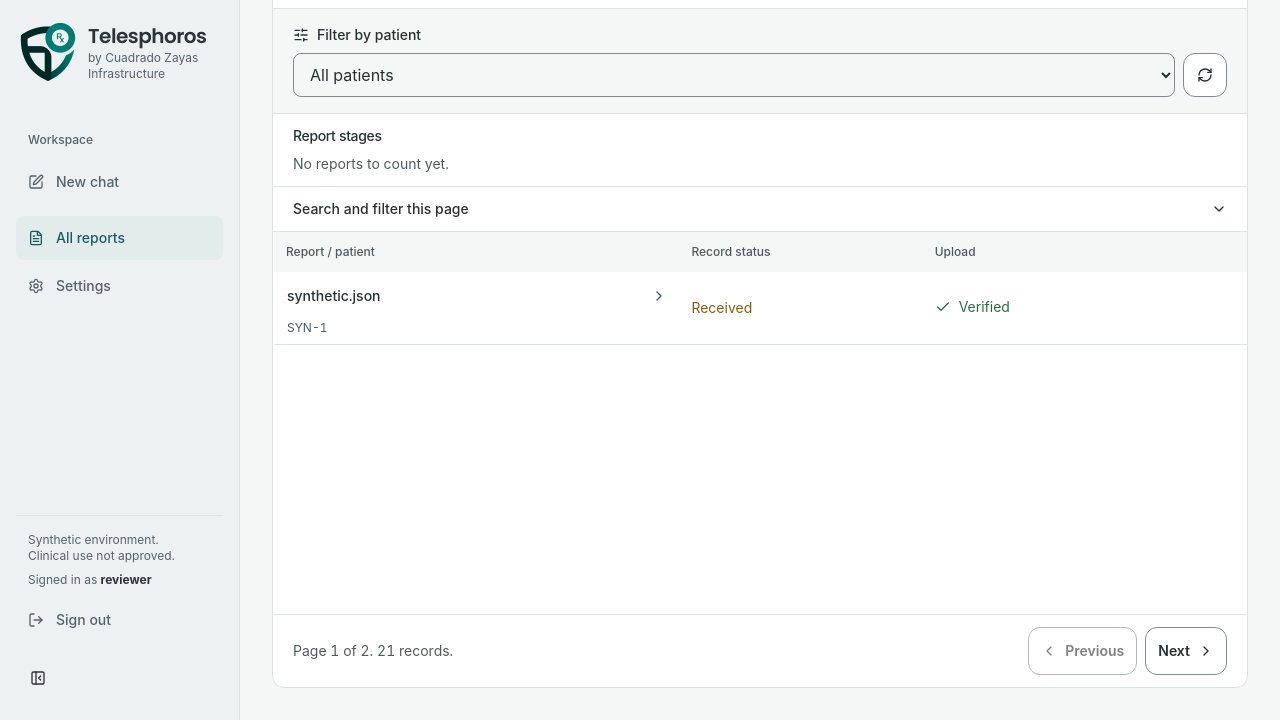
Scenario: reports page with real auth and route guards › keeps page controls mounted and focused through slow reads and refusal without stale rows
(page scrolled)
Expected: the button with aria-label "Open synthetic.json" is shown, x1=287 y1=272 x2=667 y2=320
Click the button with aria-label "Next report page".
click(1186, 651)  # box x1=1145 y1=627 x2=1227 y2=675
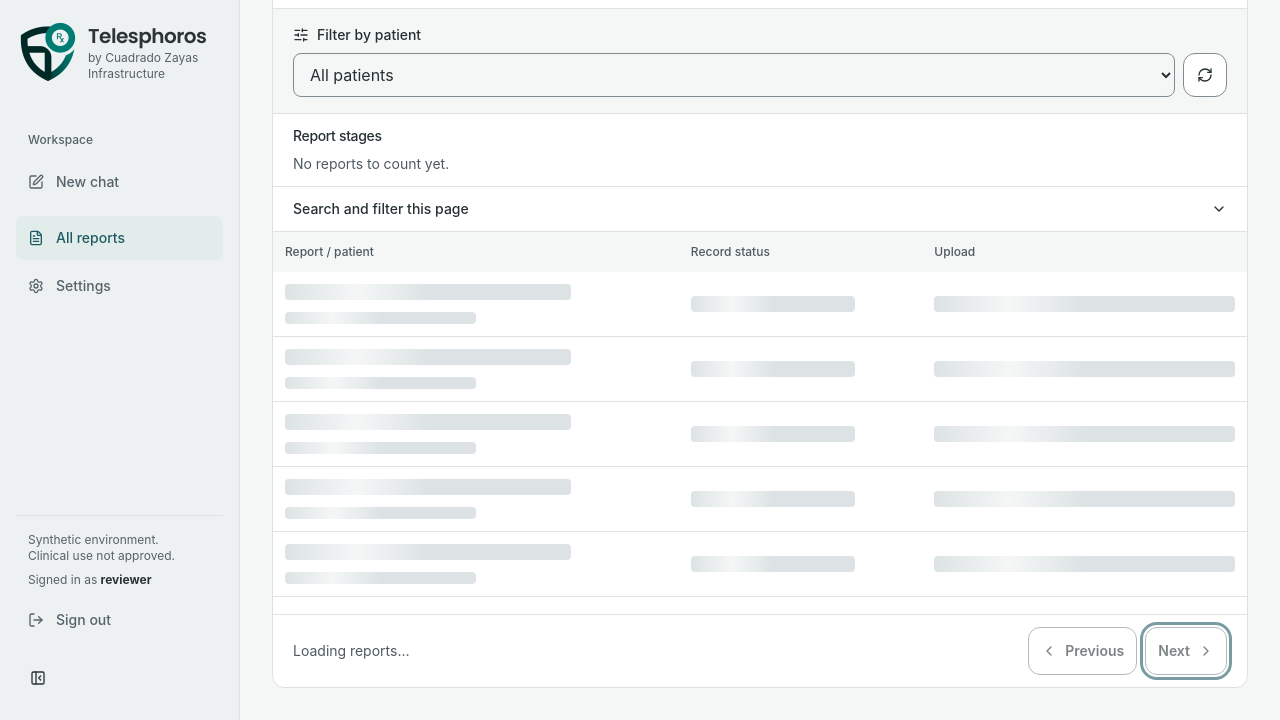
Expected: the button with aria-label "Next report page" is disabled
Expected: the element named "Report records table" has attribute aria-busy="true", x1=273 y1=231 x2=1247 y2=615
Click the button with aria-label "Next report page".
click(1186, 651)  # box x1=1145 y1=627 x2=1227 y2=675
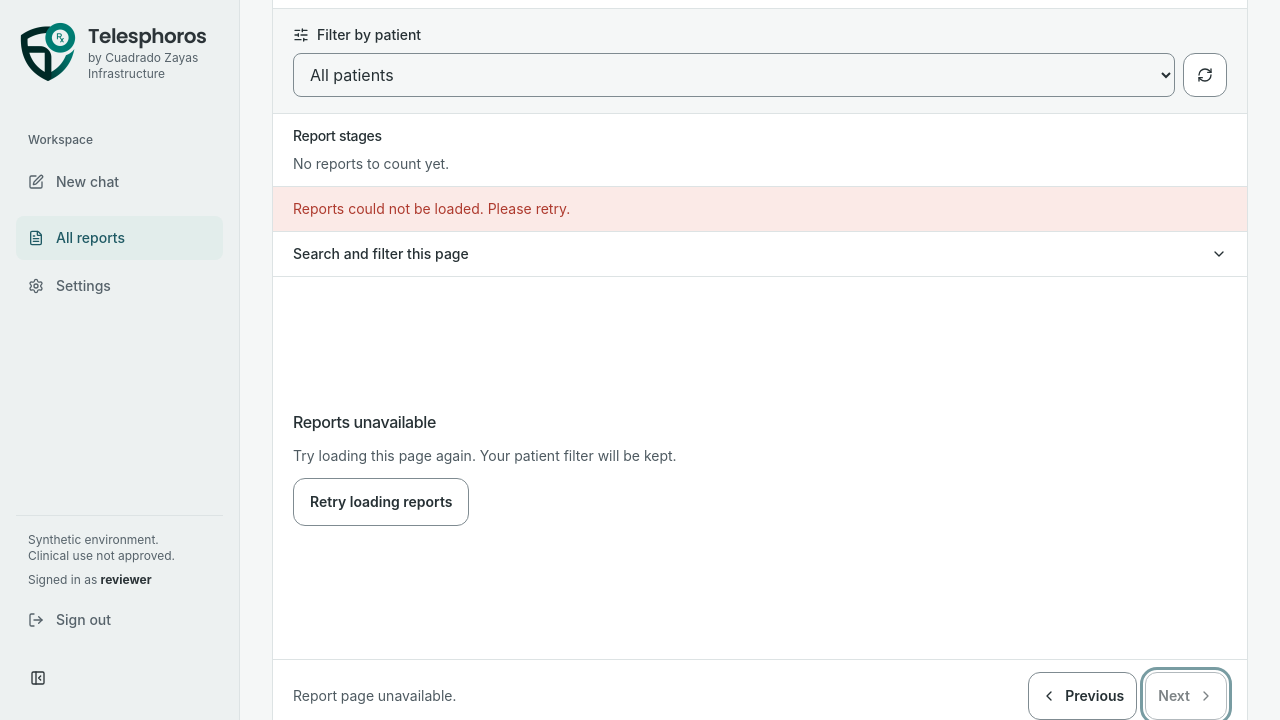
Expected: the message "Reports could not be loaded. Please retry." is shown, x1=273 y1=186 x2=1247 y2=231
Expected: the text "Report page unavailable." is shown, x1=293 y1=686 x2=456 y2=706
